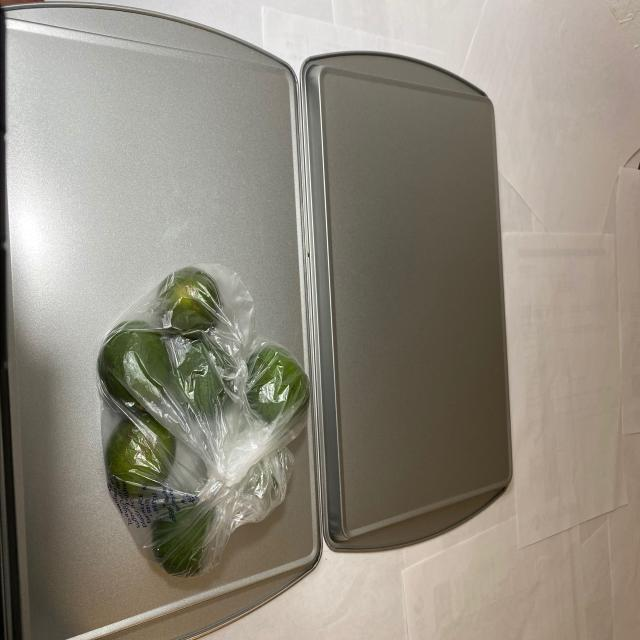lemon: (96, 268, 308, 579)
